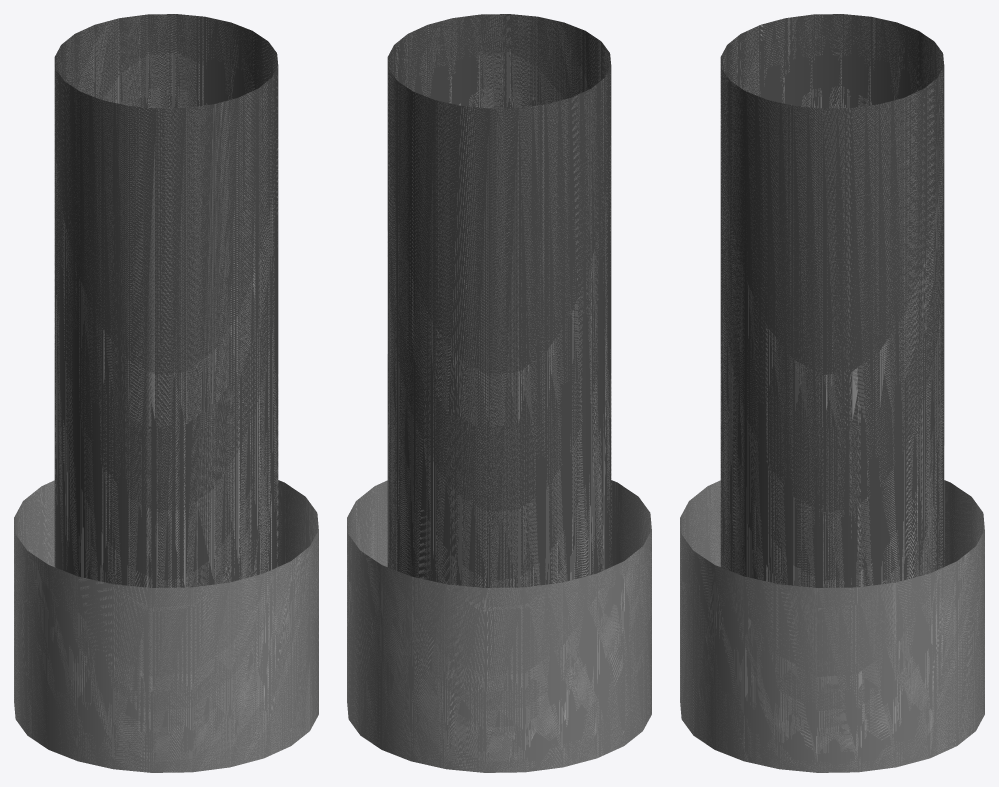
File: original-8.obj
3 renders of one model, left to right at view 1: azimuth 30°, elevation 25°; view 2: azimuth 150°, elevation 25°; view 3: azimuth 270°, elevation 25°, orthographic.
Visible parts, largest first — view 1: Group3/mesh7/mesh7-geometry#mesh7-geometry; view 2: Group3/mesh7/mesh7-geometry#mesh7-geometry; view 3: Group3/mesh7/mesh7-geometry#mesh7-geometry.
Part boxes in pixels (x1,y1,x2,y2): Group3/mesh7/mesh7-geometry#mesh7-geometry: (14,14,318,772); Group3/mesh7/mesh7-geometry#mesh7-geometry: (347,14,651,772); Group3/mesh7/mesh7-geometry#mesh7-geometry: (680,14,984,772).
Bounding box in the file's own units: 0.0144 × 0.0338 × 0.0144.
Materials: 4 (1 with a texture image).
